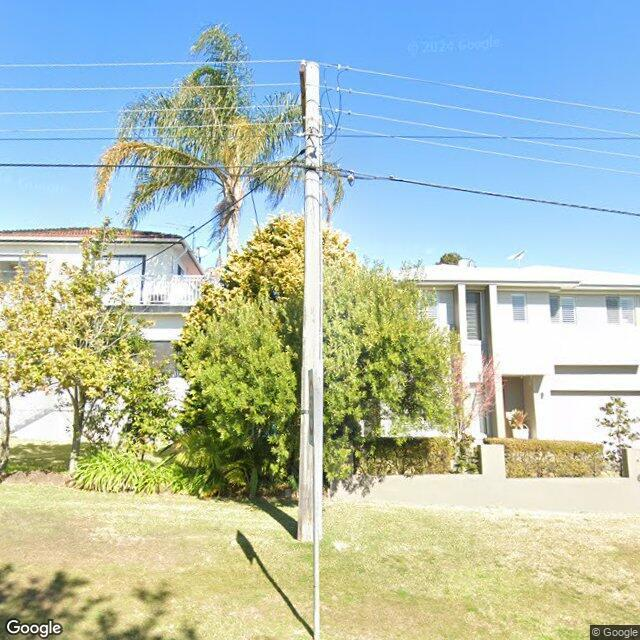crossarm: (298, 65, 306, 133)
timber-pole: (298, 62, 323, 544)
